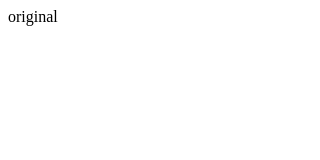
EditableCell › cancels edit on Escape without committing
Click the text "original": (33,16) [8,8,58,25]
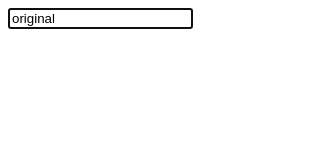
Replace the text in the field with "changed": (100,18) [8,8,193,29]
Then press Escape
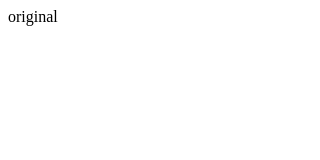
Now the text "original" is shown, box [8,8,58,25]
Now the field is gone
